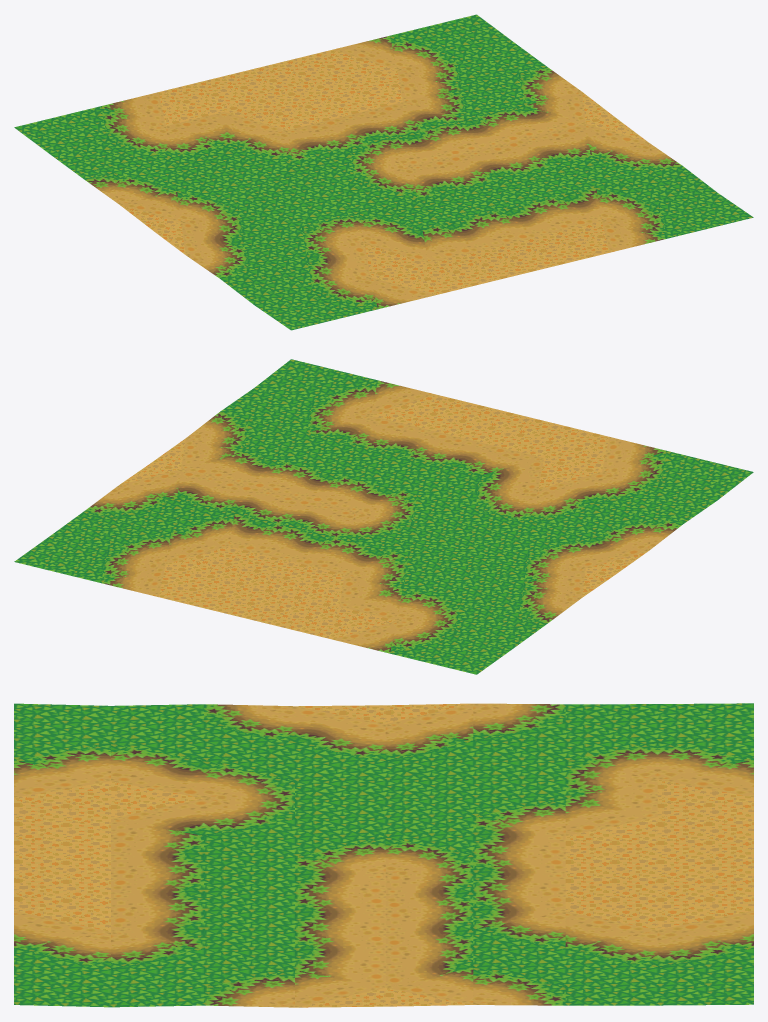
File: c_grd_f_2.001.glb
The picture shows the model from 3 angles, top to bottom: view 1: azimuth 30°, elevation 25°; view 2: azimuth 150°, elevation 25°; view 3: azimuth 270°, elevation 25°; orthographic projection. The views are drawn at different scales.
Visible parts, largest first — view 1: c_grd_f_2.001; view 2: c_grd_f_2.001; view 3: c_grd_f_2.001.
Boxes of the visible parts, x1,y1,x2,y2 form: c_grd_f_2.001: (14, 14, 753, 330); c_grd_f_2.001: (14, 359, 753, 674); c_grd_f_2.001: (14, 703, 753, 1007).
Bounding box in the file's own units: 32 × 0.1406 × 33.2.
3 materials, 3 textured.
